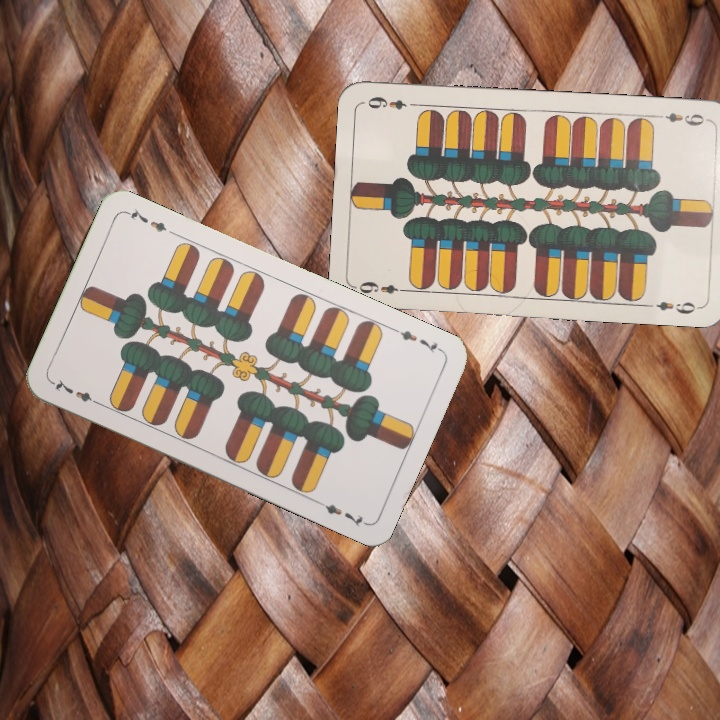E7: (48, 374, 104, 409), (389, 324, 445, 356)
E9: (355, 277, 412, 297), (661, 109, 711, 128)
